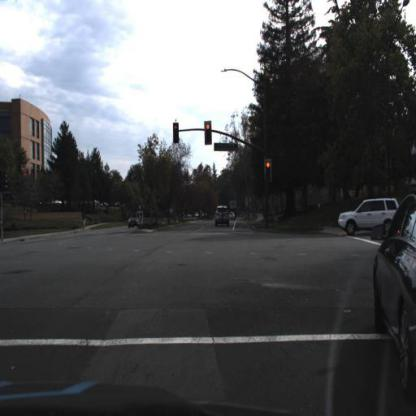biker: (271, 199, 285, 231), (79, 210, 91, 236)
car: (373, 197, 416, 384), (337, 195, 401, 236), (216, 203, 232, 229), (127, 210, 144, 231)
trafficLight-Red: (203, 120, 213, 148), (265, 159, 274, 186)
trafficLight-RedLeft: (173, 122, 181, 147)
truck: (227, 198, 239, 210)
